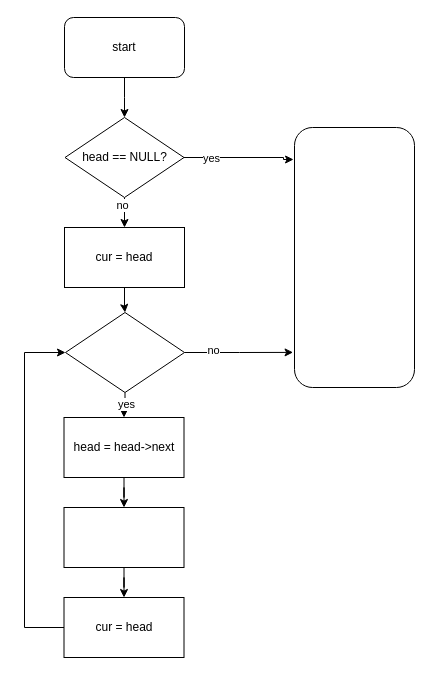
The diagram is 432 pixels wide and 675 high, and some of its shapes have lost their labels. Each missing label, with the box of its shape:
cur != NULL: (64, 312, 184, 392)
delete cur: (63, 506, 184, 568)
end: (294, 126, 414, 388)
